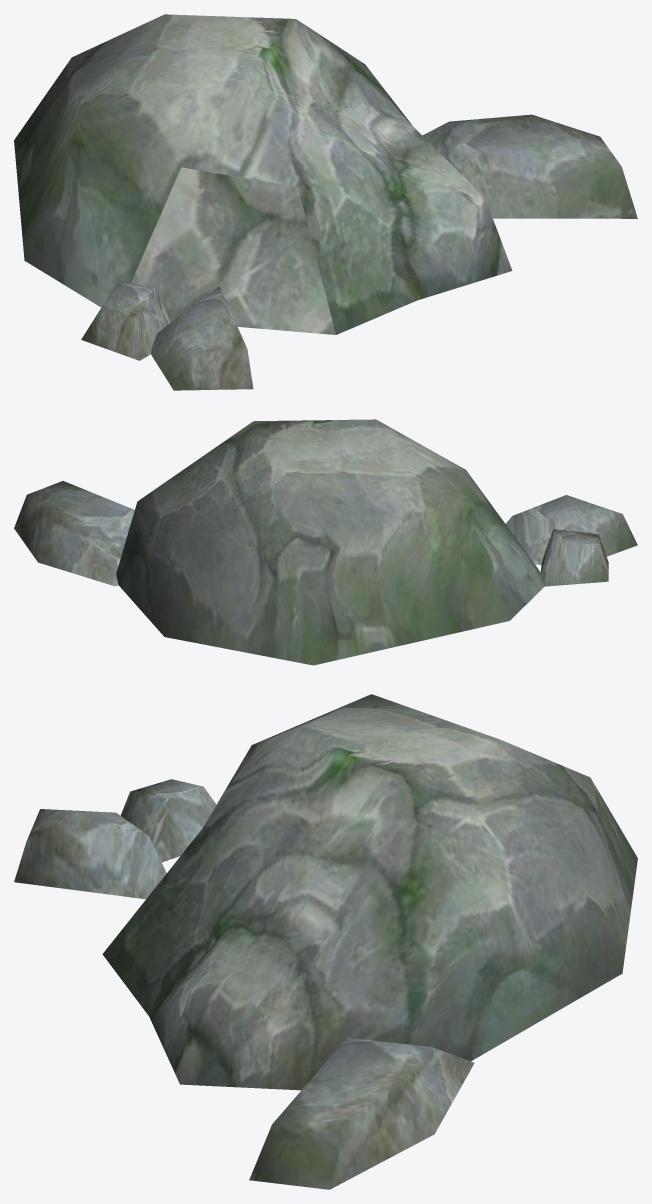
Rendered from fb_chun_shitou02_55_12_9131out.fbx.
3 views of the same model, one above another, from view 1: azimuth 30°, elevation 25°; view 2: azimuth 150°, elevation 25°; view 3: azimuth 270°, elevation 25° (orthographic). The views are drawn at different scales.
Visible parts, largest first — view 1: fb_chun_shitou02; view 2: fb_chun_shitou02; view 3: fb_chun_shitou02.
Part boxes in pixels (x1,y1,x2,y2): fb_chun_shitou02: [14, 14, 637, 390]; fb_chun_shitou02: [14, 419, 637, 665]; fb_chun_shitou02: [14, 694, 637, 1189].
Bounding box in the file's own units: 2.11 × 0.7253 × 1.64.
